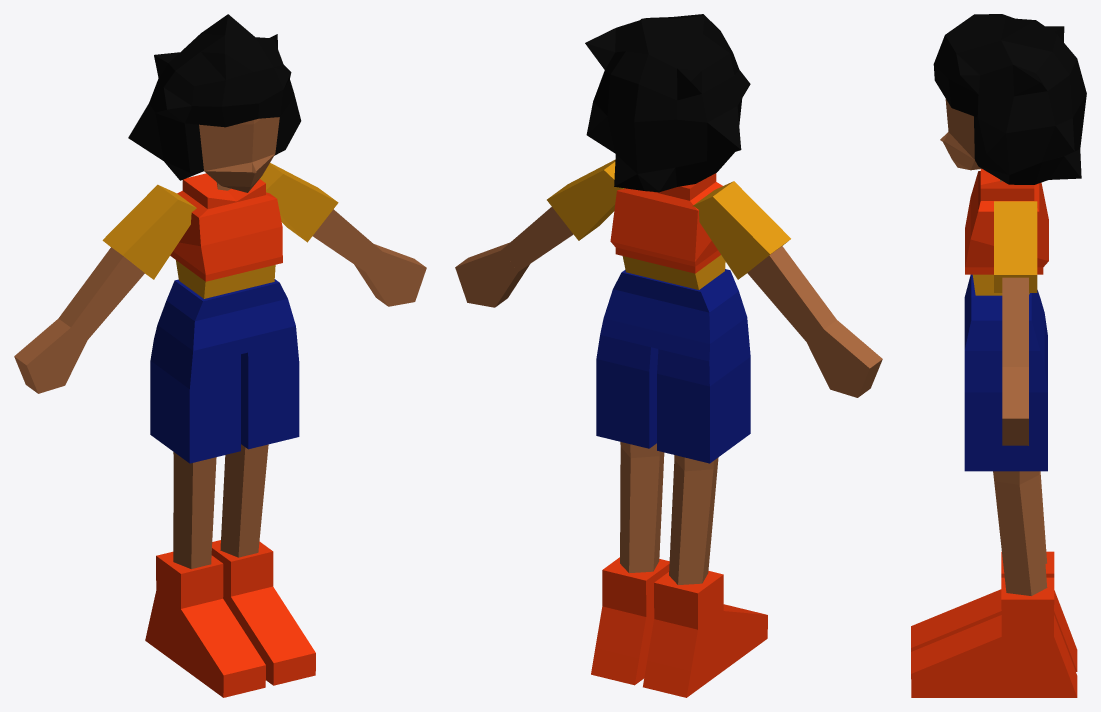
Rendered from Player LP.dae.
3 views of the same model, side by side, from view 1: azimuth 30°, elevation 25°; view 2: azimuth 150°, elevation 25°; view 3: azimuth 270°, elevation 25° (orthographic). The views are drawn at different scales.
Visible parts, largest first — view 1: Short, Head, Feet, Arms, Chest, Legs, Hands; view 2: Short, Head, Feet, Arms, Legs, Chest, Hands; view 3: Head, Feet, Short, Arms, Legs, Chest, Hands.
Boxes of the visible parts, <box> form: Short: <box>150,279,299,463</box>; Head: <box>128,14,301,192</box>; Feet: <box>145,540,315,697</box>; Arms: <box>58,163,382,339</box>; Chest: <box>170,173,282,298</box>; Legs: <box>173,444,268,568</box>; Hands: <box>14,244,426,393</box>; Short: <box>596,269,750,463</box>; Head: <box>585,14,750,192</box>; Feet: <box>591,557,767,697</box>; Arms: <box>501,159,836,341</box>; Legs: <box>620,442,718,584</box>; Chest: <box>610,173,725,289</box>; Hands: <box>455,242,882,397</box>; Head: <box>933,14,1086,184</box>; Feet: <box>911,551,1077,697</box>; Short: <box>964,274,1047,471</box>; Arms: <box>994,201,1037,366</box>; Legs: <box>993,471,1047,595</box>; Chest: <box>965,169,1048,295</box>; Hands: <box>1002,367,1028,445</box>.
Size of the model in its own units: 52.53 by 78.44 by 18.85.
